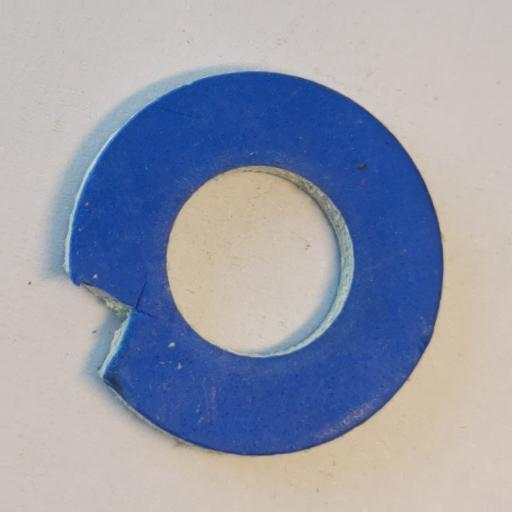defect: (65, 270, 145, 378)
